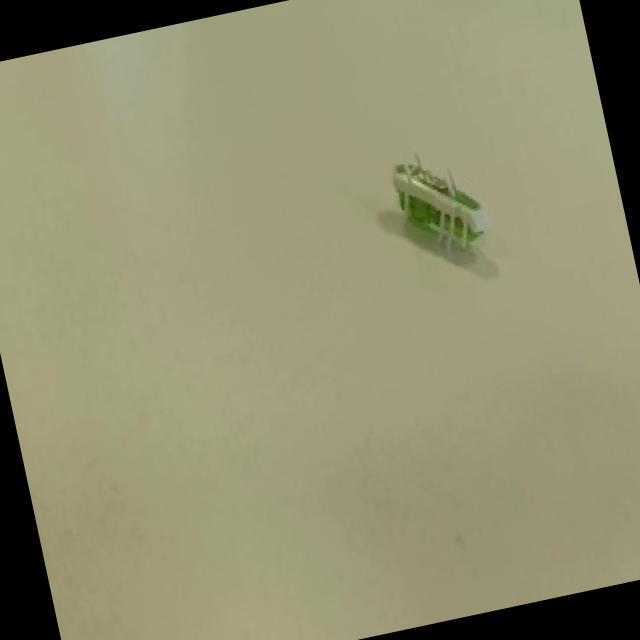4_NanoBug_Blanco: (324, 110, 542, 310)
